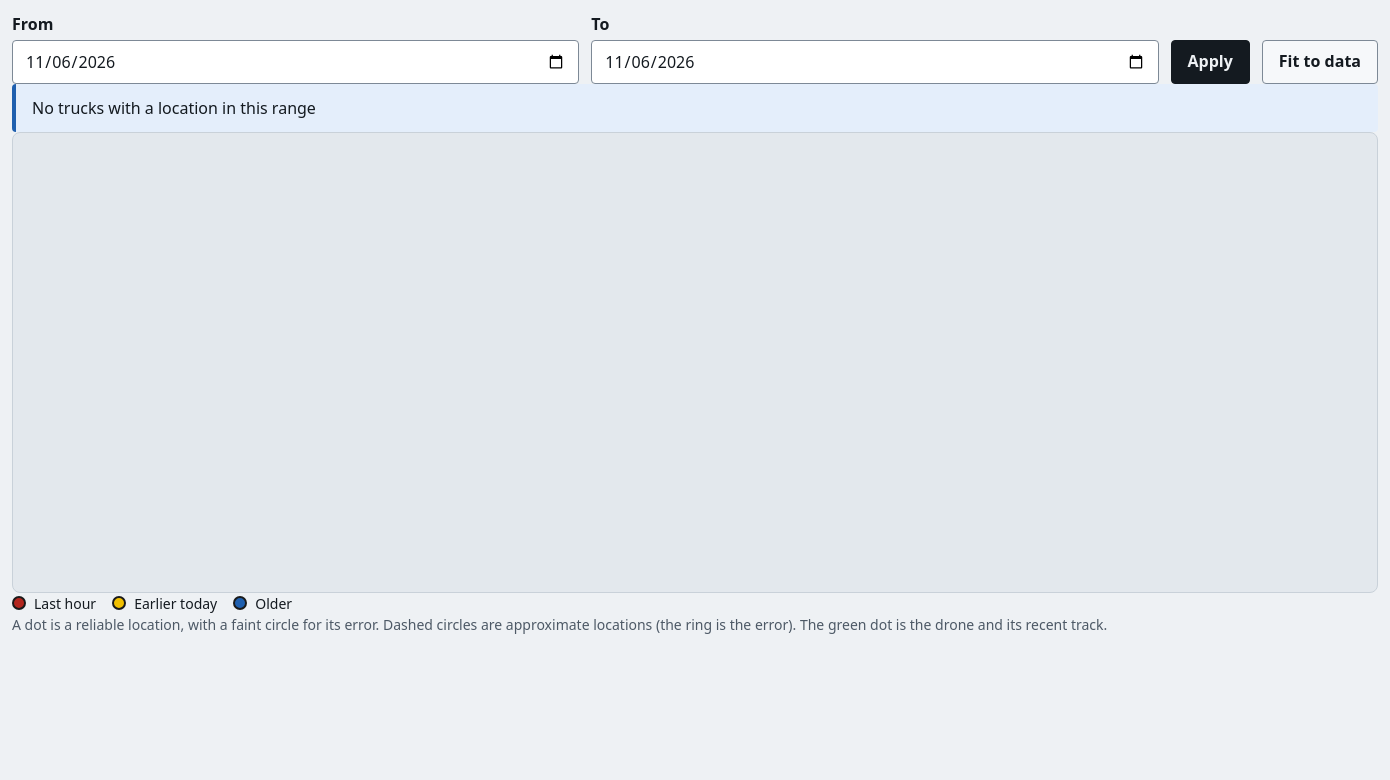
Test: a failed load shows an error and Retry loads again
The width and height of the screenshot is (1390, 780).
Click the button "Apply" at coordinates (1210, 62), box left=1170, top=40, right=1250, bottom=84
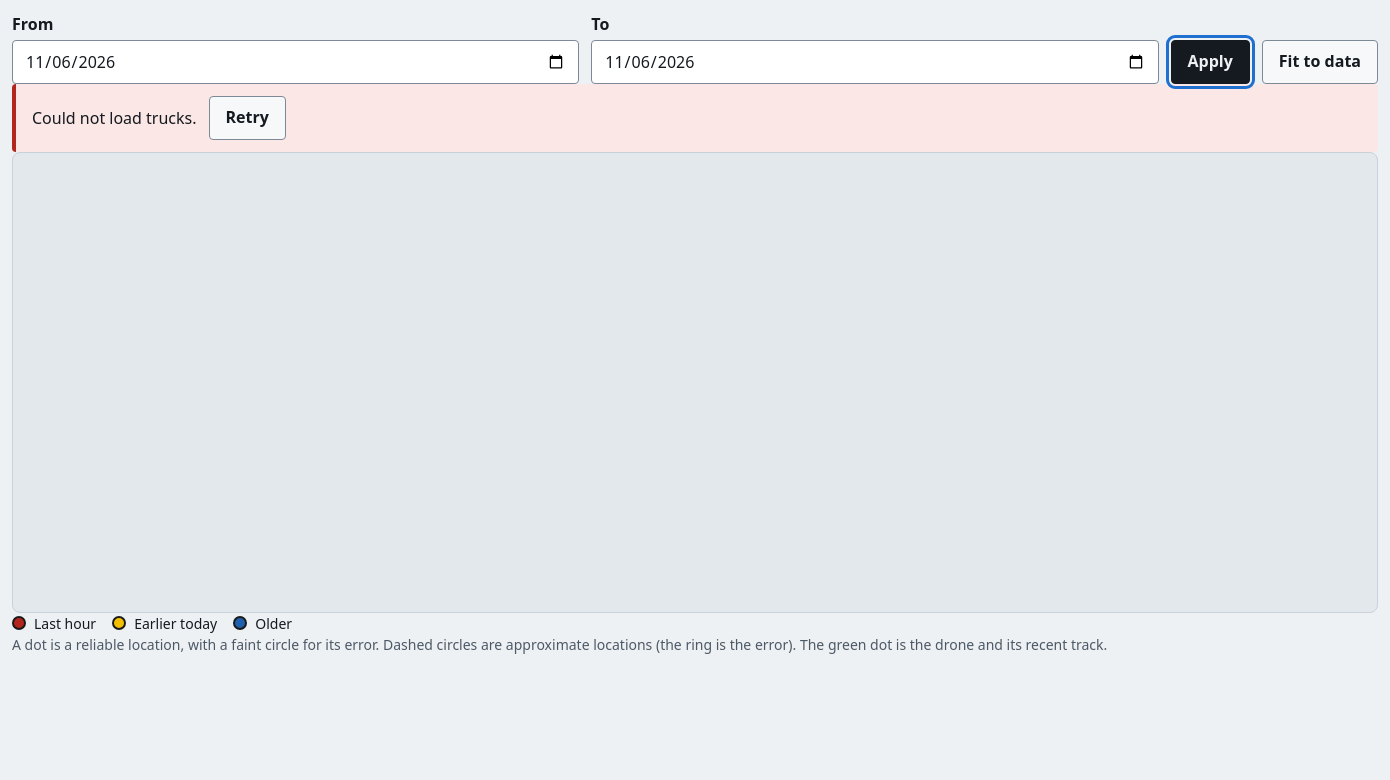
Check: the text "Could not load trucks." is shown, box left=32, top=106, right=196, bottom=130
Click the button "Retry" at coordinates (247, 118), box left=208, top=96, right=286, bottom=140
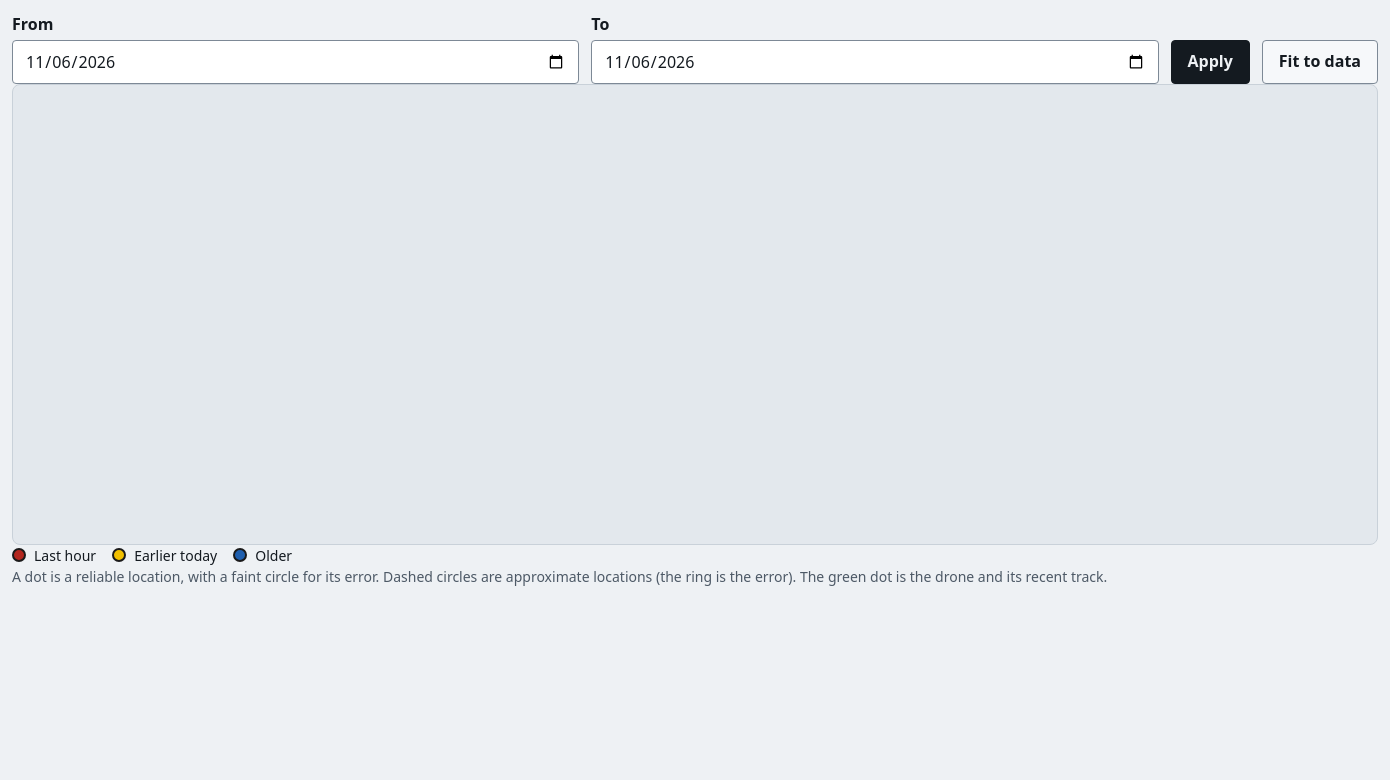
Check: the text "Could not load trucks." is gone
